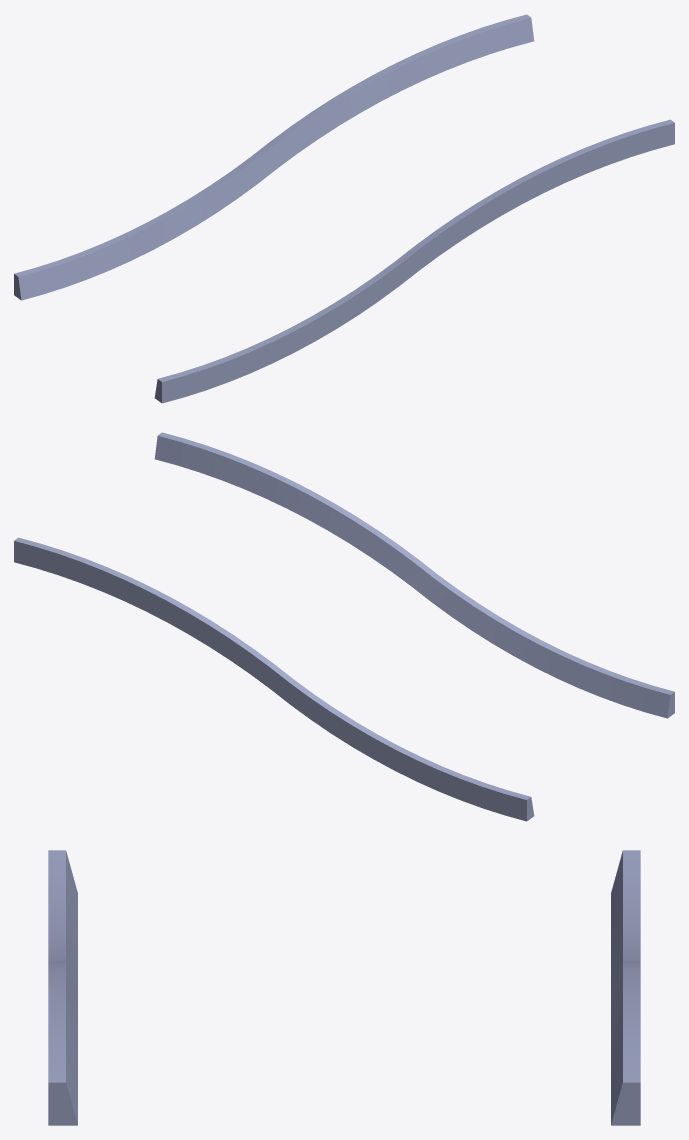
File: road-slant-curve-barrier.glb
3 views of the same model, one above another, from view 1: azimuth 30°, elevation 25°; view 2: azimuth 150°, elevation 25°; view 3: azimuth 270°, elevation 25° (orthographic). The views are drawn at different scales.
Parts seen in each view (by area): view 1: road-slant-curve-barrier; view 2: road-slant-curve-barrier; view 3: road-slant-curve-barrier.
Part boxes in pixels (x1,y1,x2,y2): road-slant-curve-barrier: (14, 14, 674, 403); road-slant-curve-barrier: (14, 432, 674, 821); road-slant-curve-barrier: (48, 850, 640, 1125).
Bounding box in the file's own units: 2 × 0.5799 × 1.
Materials: 1 (1 with a texture image).
